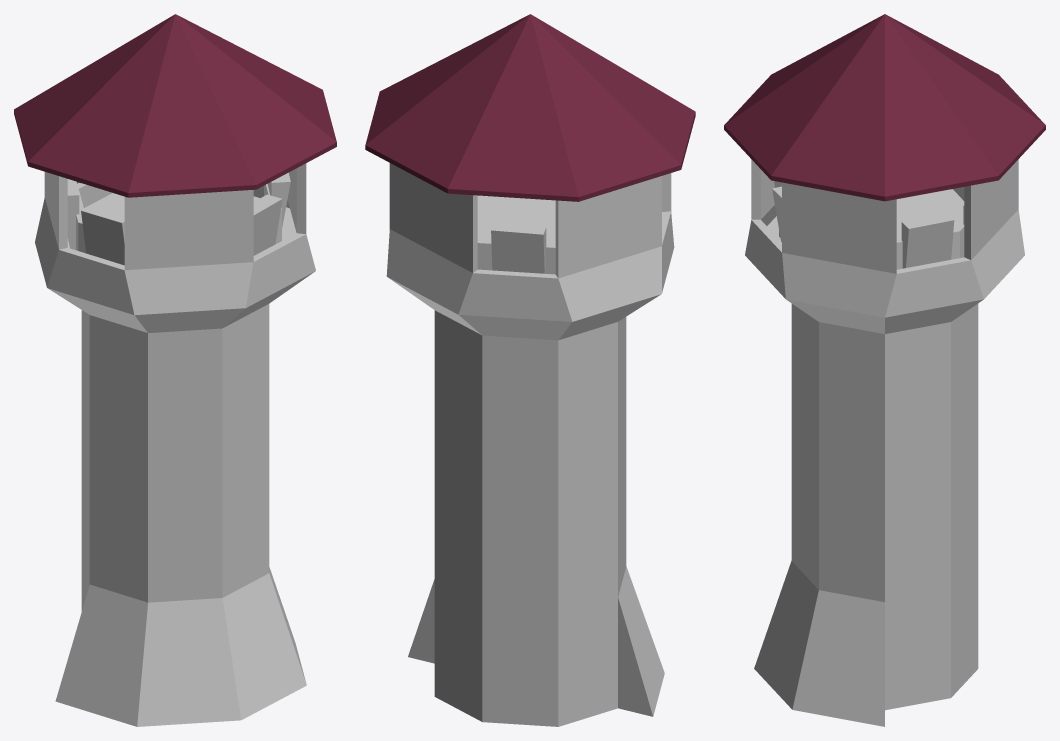
The model's file is Tower - Fortified.fbx.
3 renders of one model, left to right at view 1: azimuth 30°, elevation 25°; view 2: azimuth 150°, elevation 25°; view 3: azimuth 270°, elevation 25°, orthographic. The views are drawn at different scales.
Visible parts, largest first — view 1: Cover_005, Tower_004, Rampart, Parapet_002, Open_Top; view 2: Tower_004, Cover_005, Rampart, Open_Top, Parapet_002; view 3: Cover_005, Tower_004, Rampart, Parapet_002, Open_Top.
Part boxes in pixels (x1,y1,x2,y2): Cover_005: (14,14,336,333); Tower_004: (81,304,269,611); Rampart: (55,567,306,726); Parapet_002: (67,172,290,265); Open_Top: (76,183,281,253); Tower_004: (434,310,626,726); Cover_005: (365,14,695,340); Rampart: (408,566,664,716); Open_Top: (477,195,555,274); Parapet_002: (491,222,546,273); Cover_005: (724,14,1045,333); Tower_004: (791,303,978,710); Rampart: (754,561,884,726); Parapet_002: (772,181,964,268); Open_Top: (779,187,964,269).
Bounding box in the file's own units: 9.41 × 20.08 × 8.94.
